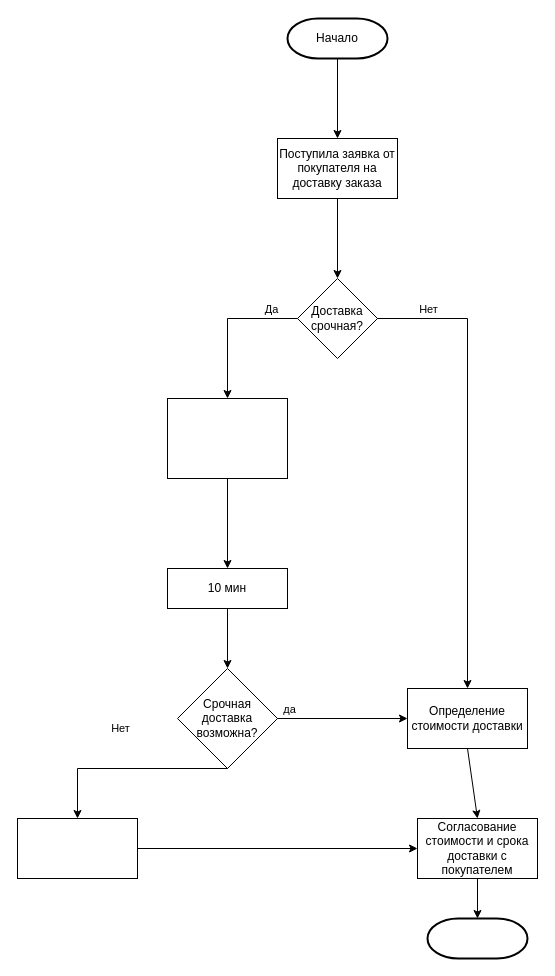
Some shapes in this 555 by 976 pixel diagram are drawn without their labels. The centre of each missing label's shape, as x and y in pixels:
Конец: (477,938)
Отправка запроса о возможности срочной доставки в службу доставки: (227,438)
Сообщение покупателю о невозможности срочной доставки: (77,848)
